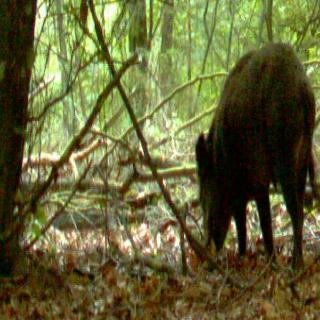Pig: (172, 0, 320, 292)
